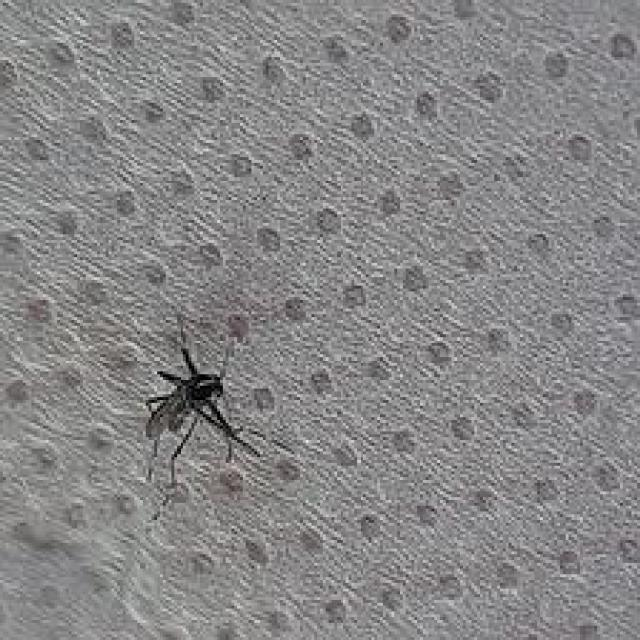Aedes albopictus: (140, 319, 291, 490)
